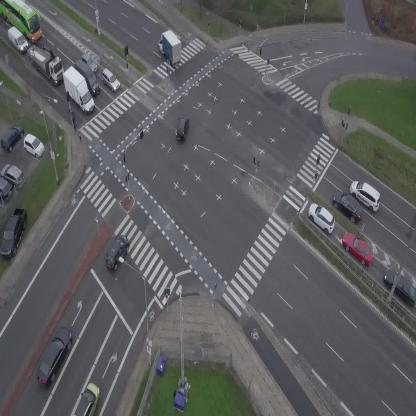bicycle: (72, 114, 79, 132)
car: (31, 323, 78, 388), (337, 226, 379, 270), (345, 174, 387, 214), (327, 186, 369, 226), (303, 199, 341, 236), (101, 232, 134, 274), (72, 381, 105, 416), (97, 66, 124, 94), (79, 50, 102, 73), (175, 114, 190, 141)
lorry: (17, 33, 72, 88), (58, 62, 97, 118), (153, 27, 191, 69), (71, 56, 104, 97), (3, 25, 33, 54)
